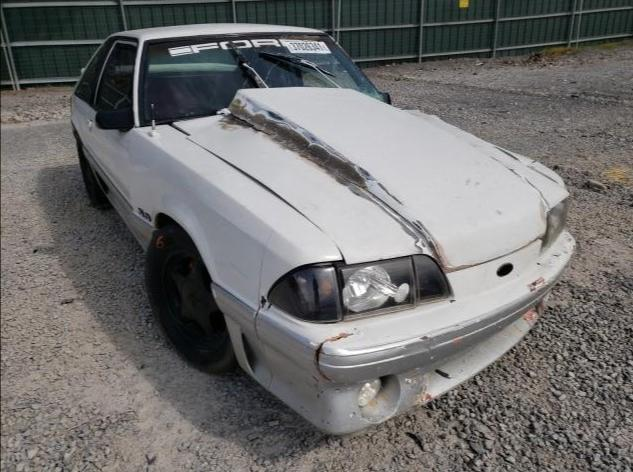Broken part: (180, 88, 569, 272), (253, 231, 574, 433), (127, 133, 142, 239)
Corrosion: (217, 98, 368, 192), (313, 332, 356, 383), (426, 237, 479, 275), (404, 365, 436, 410), (519, 297, 547, 329), (367, 388, 389, 411), (525, 276, 548, 296), (511, 323, 523, 335), (419, 335, 434, 344)
Missing part: (496, 264, 512, 275)
Paint chip: (347, 185, 439, 263), (240, 95, 348, 159), (359, 166, 404, 206), (494, 147, 522, 163), (416, 220, 437, 241), (434, 367, 455, 380), (259, 293, 268, 310), (451, 334, 462, 347), (411, 220, 423, 231), (264, 302, 274, 311), (448, 297, 457, 305), (495, 209, 503, 216), (310, 375, 318, 382), (552, 252, 561, 258), (348, 412, 355, 419), (457, 368, 464, 375), (313, 383, 318, 391), (333, 387, 341, 392), (566, 237, 572, 243), (464, 180, 471, 185), (534, 261, 541, 266), (316, 393, 321, 400), (461, 358, 466, 365), (352, 327, 359, 332), (328, 408, 332, 415), (475, 181, 480, 186), (303, 409, 309, 413), (467, 354, 473, 358), (563, 250, 567, 255), (300, 405, 304, 410), (326, 420, 330, 425), (352, 411, 356, 416), (320, 390, 324, 394), (289, 380, 293, 384), (321, 419, 324, 423)
Scratch: (227, 260, 252, 282)
